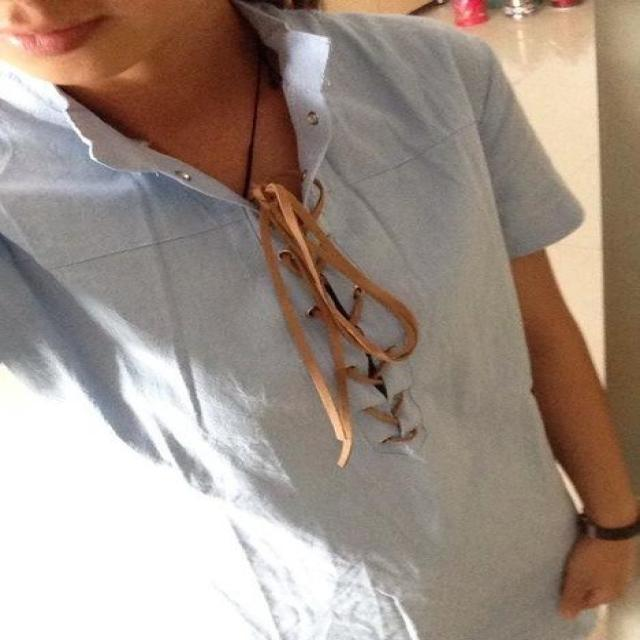short sleeve dress: (0, 1, 596, 638)
